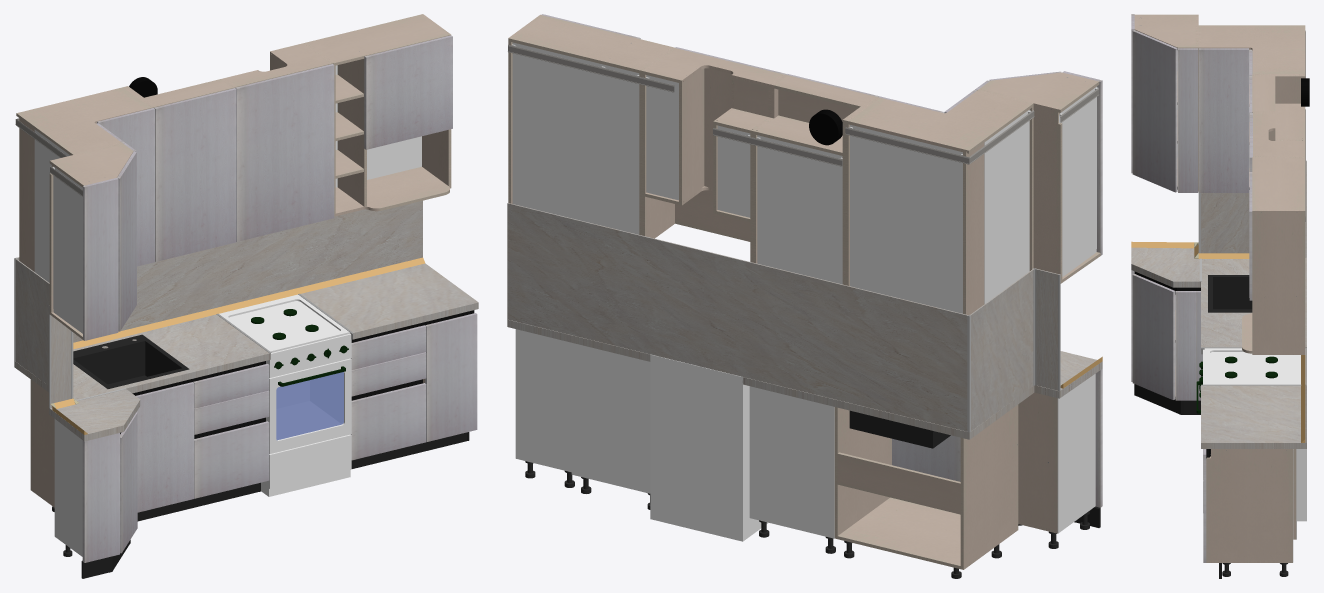
3 renders of one model, left to right at view 1: azimuth 30°, elevation 25°; view 2: azimuth 150°, elevation 25°; view 3: azimuth 270°, elevation 25°, orthographic. The views are drawn at different scales.
Visible parts, largest first — view 1: node_0134, node_0111, node_0098, node_0122, node_0137, node_0034, node_0135, node_0072, node_0078, node_0022, node_0047, node_0062 (+36 smaller); view 2: node_0134, node_0119, node_0087, node_0146, node_0040, node_0055, node_0093, node_0133, node_0067, node_0032, node_0086, node_0089 (+40 smaller); view 3: node_0065, node_0116, node_0082, node_0081, node_0137, node_0024, node_0089, node_0080, node_0133, node_0117, node_0135, node_0136 (+26 smaller).
Part boxes in pixels (x1=…): node_0134: x1=16, y1=200, x2=422, y2=342; node_0111: x1=235, y1=64, x2=334, y2=241; node_0098: x1=154, y1=88, x2=236, y2=261; node_0122: x1=364, y1=35, x2=452, y2=149; node_0137: x1=301, y1=263, x2=478, y2=339; node_0034: x1=136, y1=382, x2=194, y2=512; node_0135: x1=14, y1=314, x2=270, y2=399; node_0072: x1=425, y1=313, x2=477, y2=441; node_0078: x1=83, y1=178, x2=118, y2=340; node_0022: x1=82, y1=433, x2=119, y2=562; node_0047: x1=194, y1=421, x2=269, y2=498; node_0062: x1=351, y1=383, x2=426, y2=460; node_0134: x1=507, y1=203, x2=968, y2=431; node_0119: x1=512, y1=42, x2=639, y2=234; node_0087: x1=850, y1=125, x2=962, y2=313; node_0146: x1=652, y1=357, x2=740, y2=540; node_0040: x1=749, y1=386, x2=834, y2=538; node_0055: x1=571, y1=343, x2=650, y2=493; node_0093: x1=757, y1=135, x2=842, y2=284; node_0133: x1=969, y1=269, x2=1033, y2=430; node_0067: x1=515, y1=329, x2=571, y2=472; node_0032: x1=960, y1=404, x2=1018, y2=566; node_0086: x1=984, y1=109, x2=1029, y2=303; node_0089: x1=848, y1=91, x2=1031, y2=153; node_0065: x1=1206, y1=449, x2=1292, y2=560; node_0116: x1=1252, y1=210, x2=1305, y2=354; node_0082: x1=1199, y1=48, x2=1248, y2=192; node_0081: x1=1132, y1=30, x2=1177, y2=192; node_0137: x1=1201, y1=385, x2=1306, y2=448; node_0024: x1=1132, y1=274, x2=1175, y2=399; node_0089: x1=1201, y1=25, x2=1305, y2=73; node_0080: x1=1178, y1=48, x2=1198, y2=192; node_0133: x1=1201, y1=190, x2=1249, y2=253; node_0117: x1=1252, y1=158, x2=1305, y2=209; node_0135: x1=1201, y1=258, x2=1306, y2=347; node_0136: x1=1131, y1=247, x2=1200, y2=287.
Bounding box in the file's own units: 2.64 × 2.32 × 1.01.
36 materials, 5 textured.
